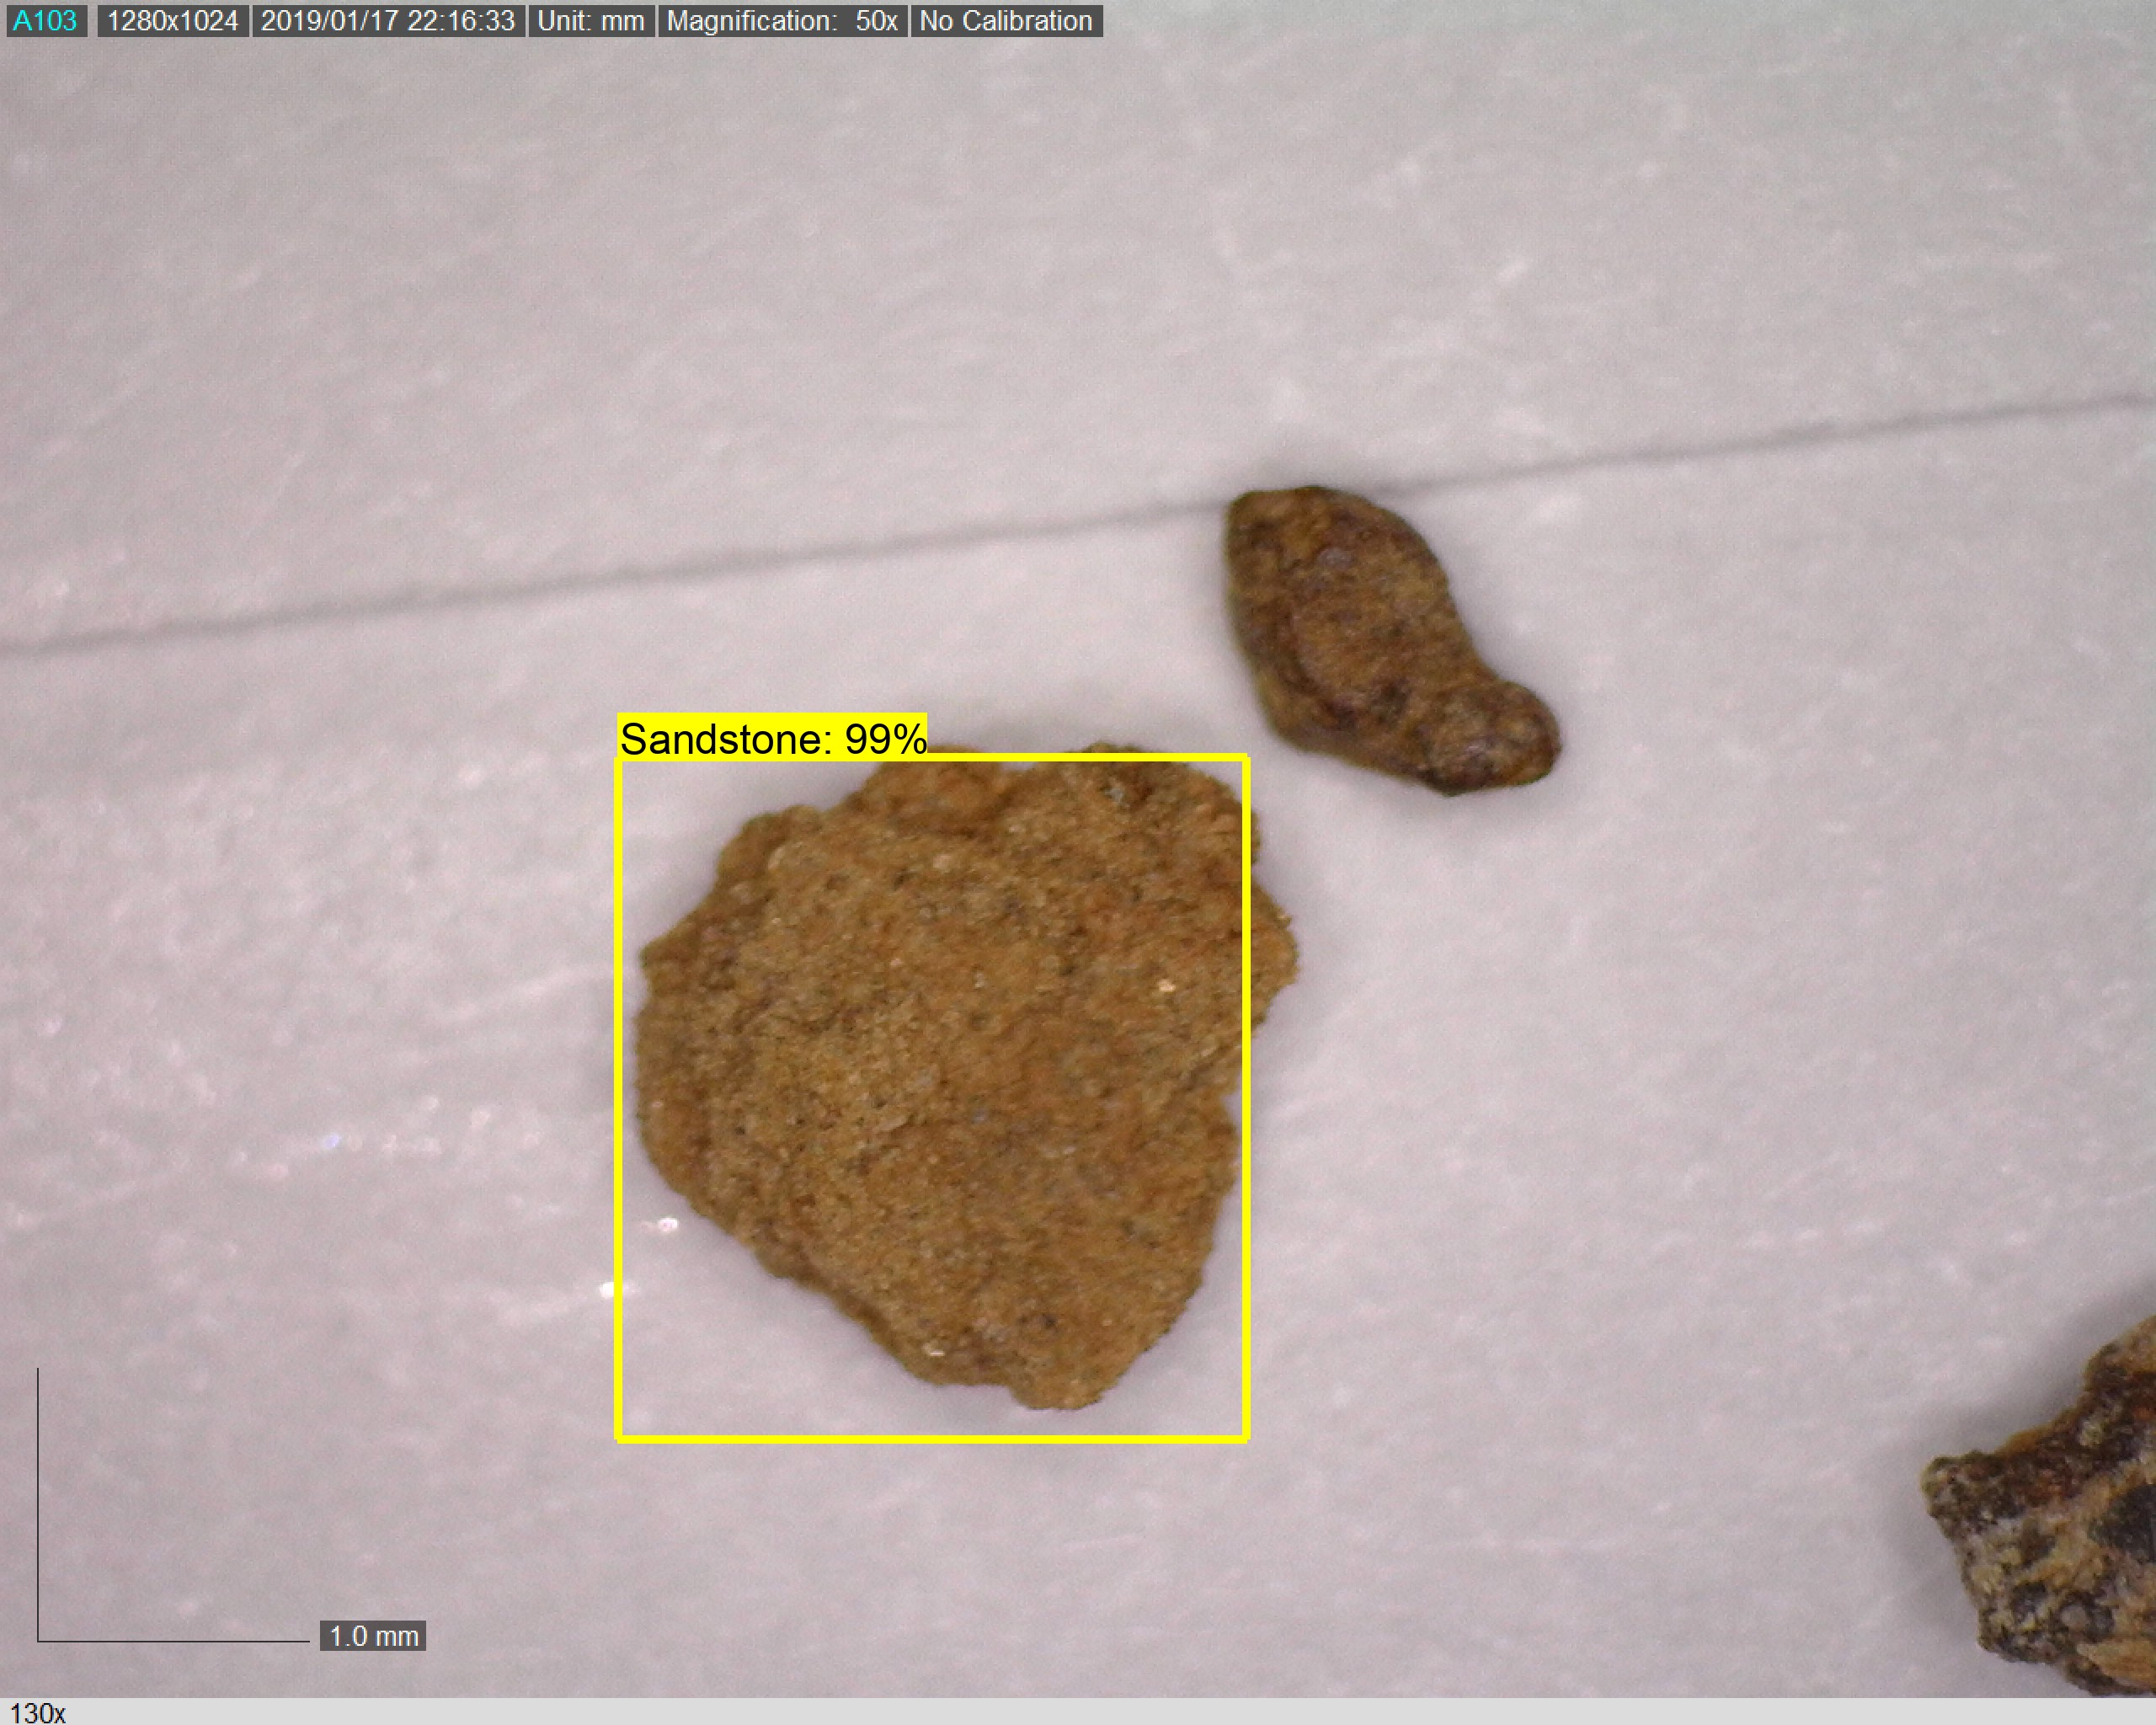Sandstone: (614, 736, 1316, 1431)
